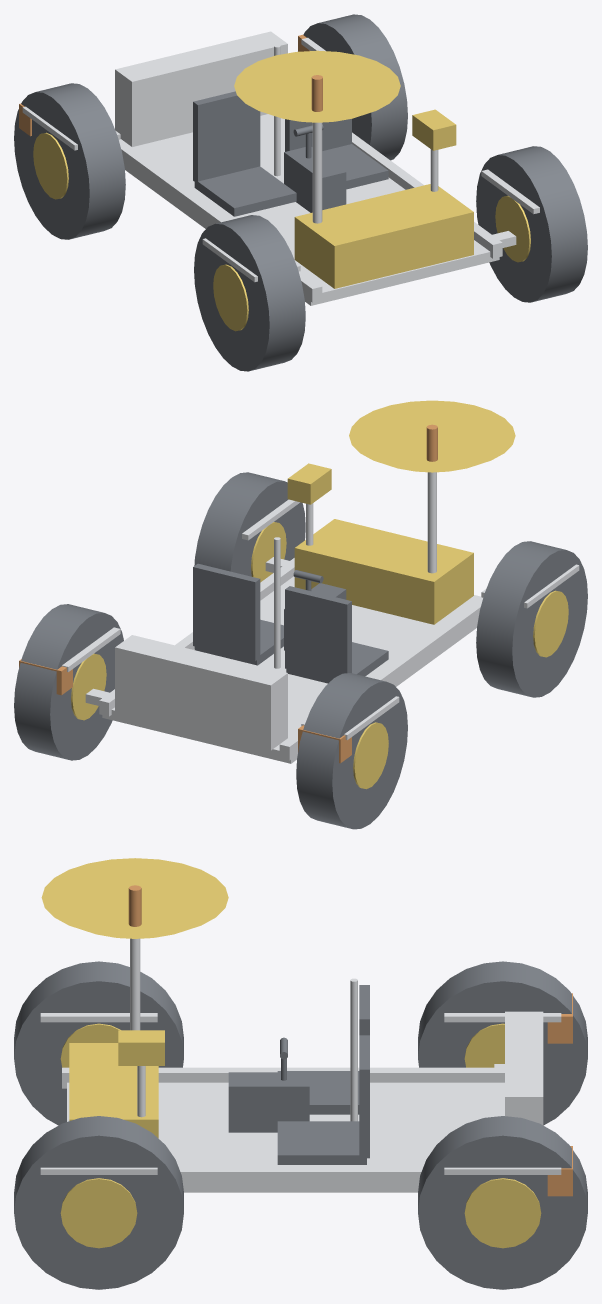
The model's file is lunar_rover.glb.
3 renders of one model, top to bottom at view 1: azimuth 30°, elevation 25°; view 2: azimuth 150°, elevation 25°; view 3: azimuth 270°, elevation 25°, orthographic. The views are drawn at different scales.
Visible parts, largest first — view 1: Apollo_Lunar_Roving_Vehicle; view 2: Apollo_Lunar_Roving_Vehicle; view 3: Apollo_Lunar_Roving_Vehicle.
Boxes of the visible parts, x1,y1,x2,y2 form: Apollo_Lunar_Roving_Vehicle: (14,14,587,371); Apollo_Lunar_Roving_Vehicle: (14,400,587,829); Apollo_Lunar_Roving_Vehicle: (14,858,587,1289).
Bounding box in the file's own units: 1.98 × 1.47 × 2.7.
